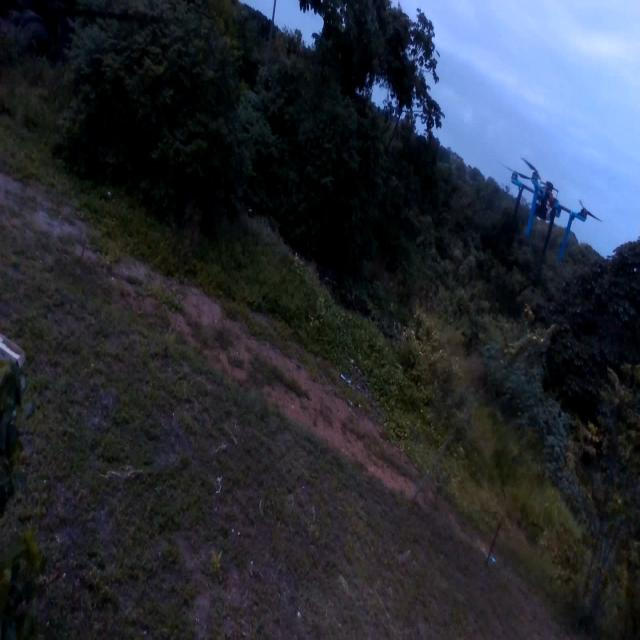-uav-: (505, 136, 599, 274)
